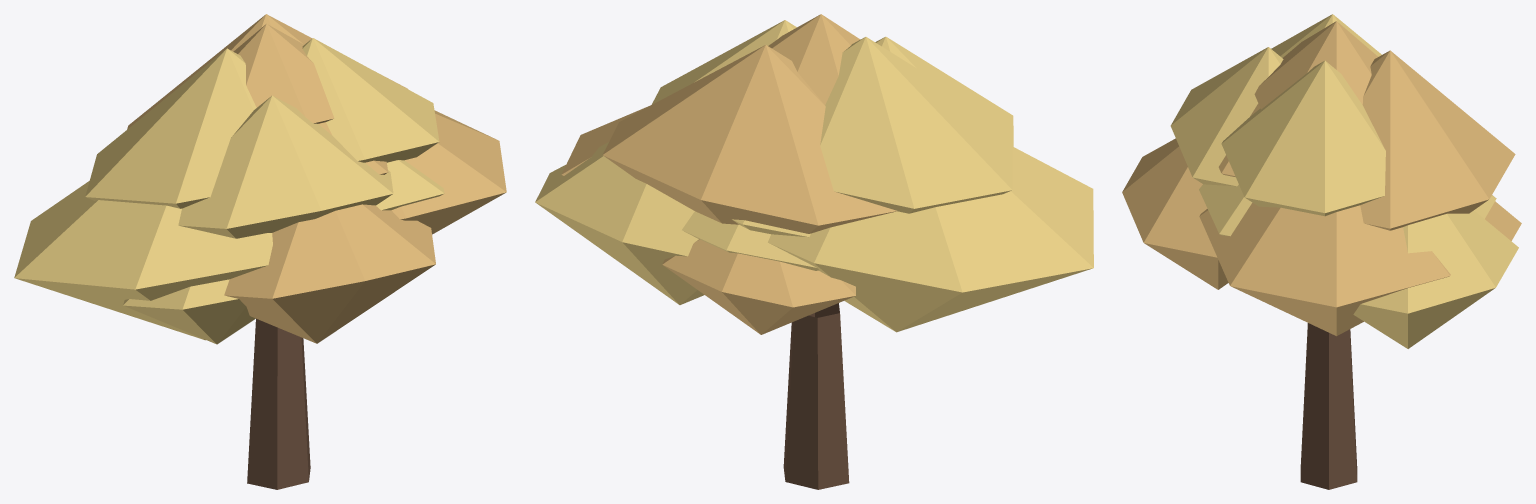
File: tree_reference_oak_broad_01_hlod.fbx
3 renders of one model, left to right at view 1: azimuth 30°, elevation 25°; view 2: azimuth 150°, elevation 25°; view 3: azimuth 270°, elevation 25°, orthographic. The views are drawn at different scales.
Visible parts, largest first — view 1: tree_reference_oak_broad_01_hlod_canopy_03, tree_reference_oak_broad_01_hlod_canopy_08, tree_reference_oak_broad_01_hlod_canopy_05, tree_reference_oak_broad_01_hlod_canopy_14, tree_reference_oak_broad_01_hlod_canopy_11, tree_reference_oak_broad_01_hlod_trunk_00, tree_reference_oak_broad_01_hlod_canopy_01, tree_reference_oak_broad_01_hlod_canopy_10, tree_reference_oak_broad_01_hlod_canopy_09, tree_reference_oak_broad_01_hlod_canopy_00, tree_reference_oak_broad_01_hlod_canopy_04; view 2: tree_reference_oak_broad_01_hlod_canopy_03, tree_reference_oak_broad_01_hlod_canopy_04, tree_reference_oak_broad_01_hlod_canopy_14, tree_reference_oak_broad_01_hlod_canopy_07, tree_reference_oak_broad_01_hlod_trunk_00, tree_reference_oak_broad_01_hlod_canopy_06, tree_reference_oak_broad_01_hlod_canopy_10, tree_reference_oak_broad_01_hlod_canopy_02, tree_reference_oak_broad_01_hlod_canopy_11, tree_reference_oak_broad_01_hlod_canopy_05, tree_reference_oak_broad_01_hlod_canopy_01; view 3: tree_reference_oak_broad_01_hlod_canopy_01, tree_reference_oak_broad_01_hlod_canopy_11, tree_reference_oak_broad_01_hlod_canopy_04, tree_reference_oak_broad_01_hlod_canopy_07, tree_reference_oak_broad_01_hlod_canopy_08, tree_reference_oak_broad_01_hlod_trunk_00, tree_reference_oak_broad_01_hlod_canopy_05, tree_reference_oak_broad_01_hlod_canopy_10, tree_reference_oak_broad_01_hlod_canopy_00, tree_reference_oak_broad_01_hlod_canopy_14, tree_reference_oak_broad_01_hlod_canopy_06.
Boxes of the visible parts, x1,y1,x2,y2 form: tree_reference_oak_broad_01_hlod_canopy_03: [14, 181, 272, 340]; tree_reference_oak_broad_01_hlod_canopy_08: [224, 204, 435, 343]; tree_reference_oak_broad_01_hlod_canopy_05: [178, 95, 393, 238]; tree_reference_oak_broad_01_hlod_canopy_14: [85, 48, 256, 208]; tree_reference_oak_broad_01_hlod_canopy_11: [302, 38, 439, 162]; tree_reference_oak_broad_01_hlod_trunk_00: [247, 318, 310, 489]; tree_reference_oak_broad_01_hlod_canopy_01: [391, 110, 506, 234]; tree_reference_oak_broad_01_hlod_canopy_10: [233, 23, 334, 123]; tree_reference_oak_broad_01_hlod_canopy_09: [123, 279, 255, 344]; tree_reference_oak_broad_01_hlod_canopy_00: [376, 160, 444, 210]; tree_reference_oak_broad_01_hlod_canopy_04: [127, 14, 407, 129]; tree_reference_oak_broad_01_hlod_canopy_03: [768, 147, 1093, 332]; tree_reference_oak_broad_01_hlod_canopy_04: [602, 45, 897, 233]; tree_reference_oak_broad_01_hlod_canopy_14: [820, 37, 1012, 213]; tree_reference_oak_broad_01_hlod_canopy_07: [535, 142, 704, 304]; tree_reference_oak_broad_01_hlod_trunk_00: [783, 303, 849, 489]; tree_reference_oak_broad_01_hlod_canopy_06: [662, 239, 855, 334]; tree_reference_oak_broad_01_hlod_canopy_10: [768, 14, 860, 104]; tree_reference_oak_broad_01_hlod_canopy_02: [682, 211, 818, 270]; tree_reference_oak_broad_01_hlod_canopy_11: [651, 20, 796, 104]; tree_reference_oak_broad_01_hlod_canopy_05: [875, 36, 1013, 146]; tree_reference_oak_broad_01_hlod_canopy_01: [561, 106, 648, 175]; tree_reference_oak_broad_01_hlod_canopy_01: [1199, 202, 1450, 336]; tree_reference_oak_broad_01_hlod_canopy_11: [1221, 60, 1385, 216]; tree_reference_oak_broad_01_hlod_canopy_04: [1360, 50, 1515, 230]; tree_reference_oak_broad_01_hlod_canopy_07: [1353, 210, 1518, 348]; tree_reference_oak_broad_01_hlod_canopy_08: [1122, 138, 1228, 289]; tree_reference_oak_broad_01_hlod_trunk_00: [1300, 323, 1357, 489]; tree_reference_oak_broad_01_hlod_canopy_05: [1170, 47, 1283, 186]; tree_reference_oak_broad_01_hlod_canopy_10: [1254, 21, 1377, 109]; tree_reference_oak_broad_01_hlod_canopy_00: [1199, 184, 1252, 236]; tree_reference_oak_broad_01_hlod_canopy_14: [1271, 14, 1381, 57]; tree_reference_oak_broad_01_hlod_canopy_06: [1485, 201, 1521, 240].
Bounding box in the file's own units: 589 × 517 × 417.
